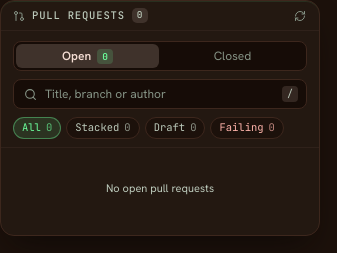
Test case: PullRequestListPane › shows the empty state for each tab
The width and height of the screenshot is (337, 253).
Expected: the text "No open pull requests" is shown, top-left (106, 180), bottom-right (214, 196)
Click the button "Closed" at (232, 56), box top-left (161, 44), bottom-right (304, 68)
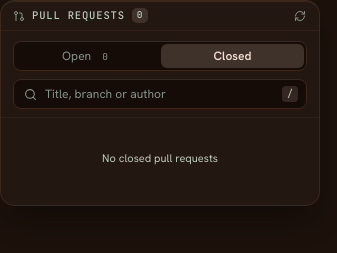
Now the text "No closed pull requests" is shown, box top-left (102, 150), bottom-right (218, 166)
